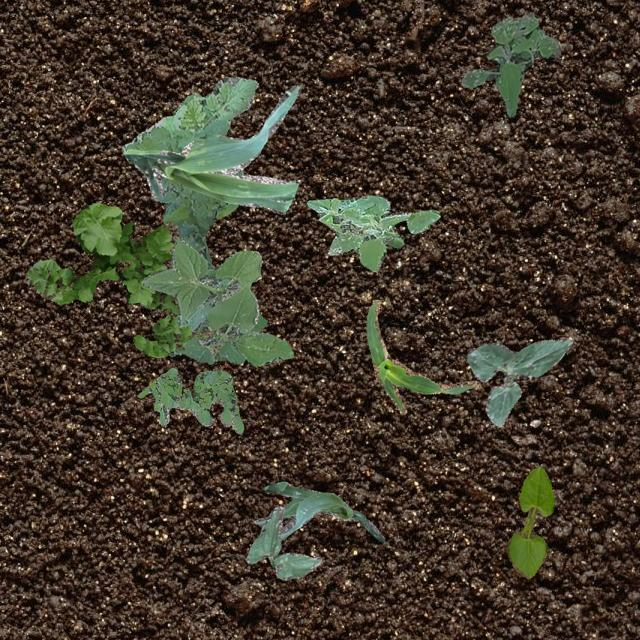crop: (123, 84, 300, 212), (366, 298, 480, 414), (464, 340, 572, 426), (254, 480, 384, 540), (244, 504, 320, 580), (506, 466, 554, 578)
weed: (120, 75, 266, 362), (23, 202, 221, 356), (140, 236, 292, 364), (460, 11, 560, 114), (306, 194, 438, 270), (138, 367, 242, 432)
